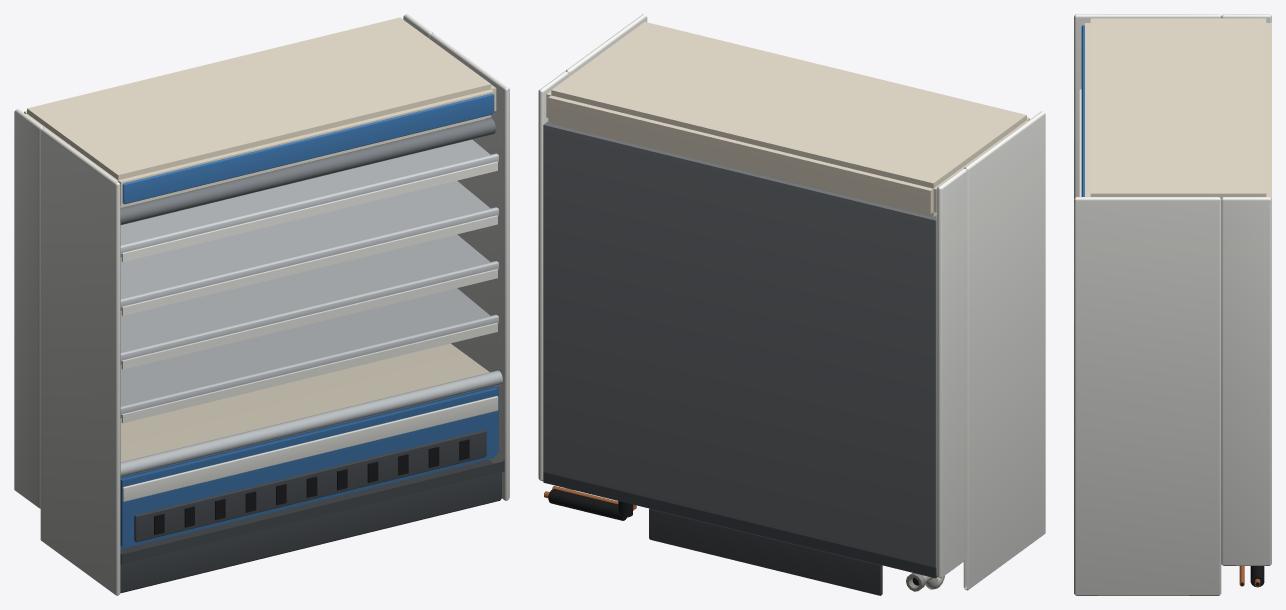
File: Multideck_Open_20.glb
The picture shows the model from 3 angles, left to right: view 1: azimuth 30°, elevation 25°; view 2: azimuth 150°, elevation 25°; view 3: azimuth 270°, elevation 25°; orthographic projection. The views are drawn at different scales.
Visible parts, largest first — view 1: SM_Multideck_Open_20; view 2: SM_Multideck_Open_20; view 3: SM_Multideck_Open_20.
Boxes of the visible parts, bbox=[...] form: SM_Multideck_Open_20: bbox=[14, 14, 509, 595]; SM_Multideck_Open_20: bbox=[538, 14, 1045, 595]; SM_Multideck_Open_20: bbox=[1074, 14, 1271, 595].
Size of the model in its own units: 2 by 2 by 0.9.
1 material, 1 textured.
